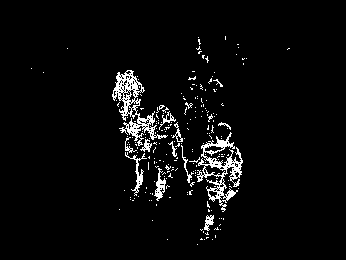person: (203, 119, 242, 241), (148, 104, 182, 205), (114, 67, 144, 139), (127, 109, 150, 201)
